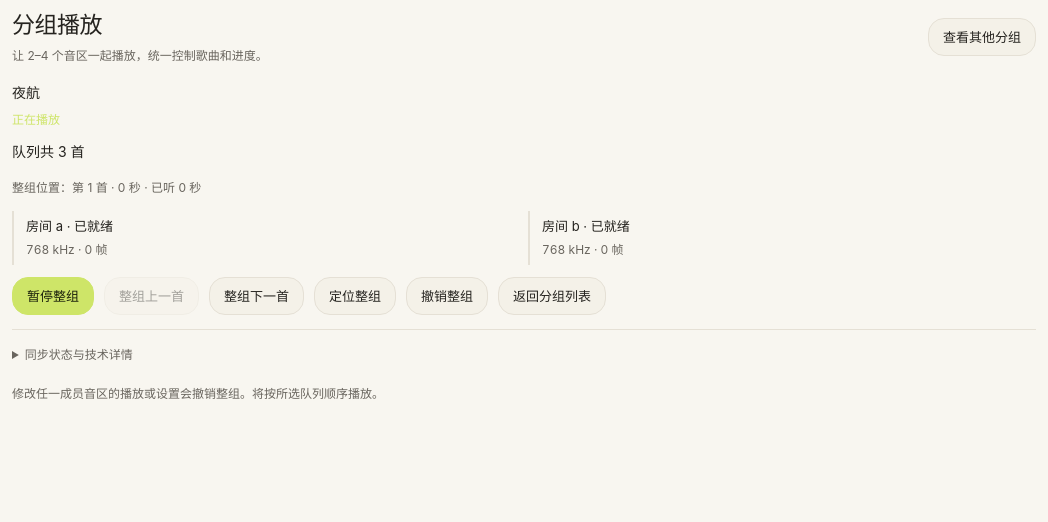
it: 分组播放 › 跳曲丢失响应后重载不重发，重试保留相同 UUID 和原曲序
Later steps or results of the test are not shown.
Click the button "整组下一首" at (256,296), box [209,277,304,316]
Wait 2100 ms
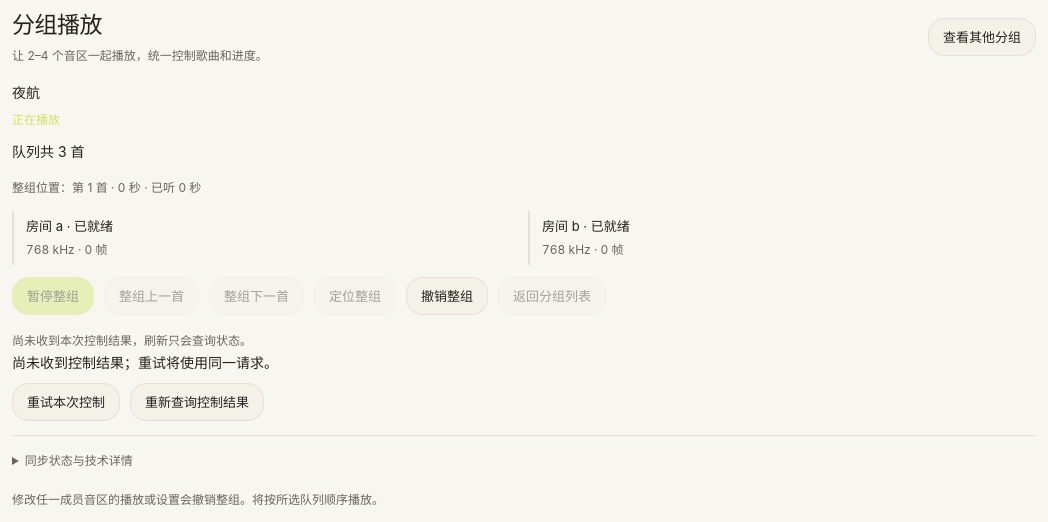
Expected: the button "重试本次控制" is shown, [12,383,120,421]
